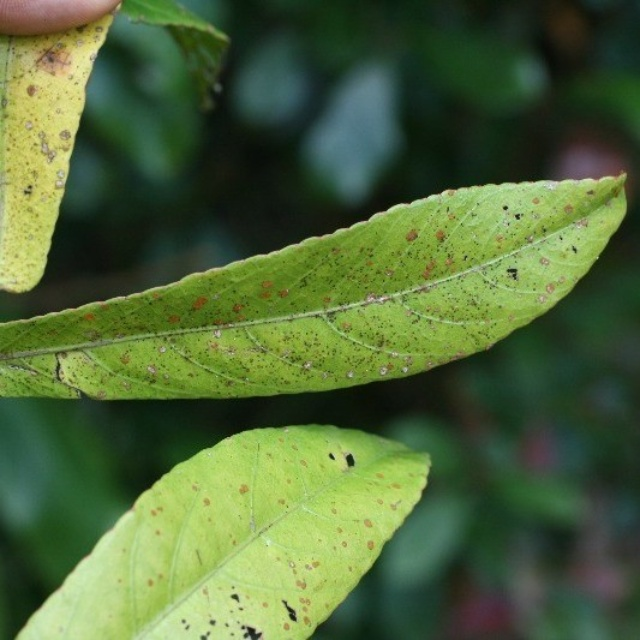obstacle: (32, 174, 621, 412), (13, 426, 449, 633)
